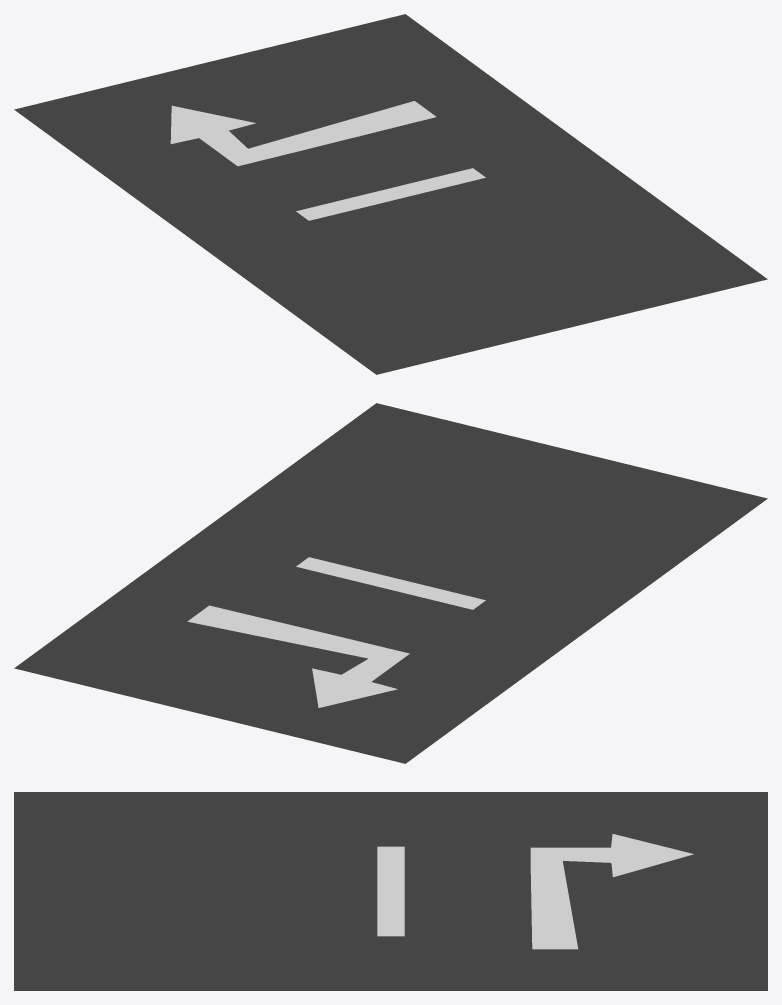
The model's file is Road 2.fbx.
3 renders of one model, top to bottom at view 1: azimuth 30°, elevation 25°; view 2: azimuth 150°, elevation 25°; view 3: azimuth 270°, elevation 25°, orthographic. The views are drawn at different scales.
Visible parts, largest first — view 1: Road 2.001; view 2: Road 2.001; view 3: Road 2.001.
Part boxes in pixels (x1,y1,x2,y2): Road 2.001: (14,14,767,374); Road 2.001: (14,403,767,763); Road 2.001: (14,792,767,990).
Size of the model in its own units: 492 by 789 by 1.17.
